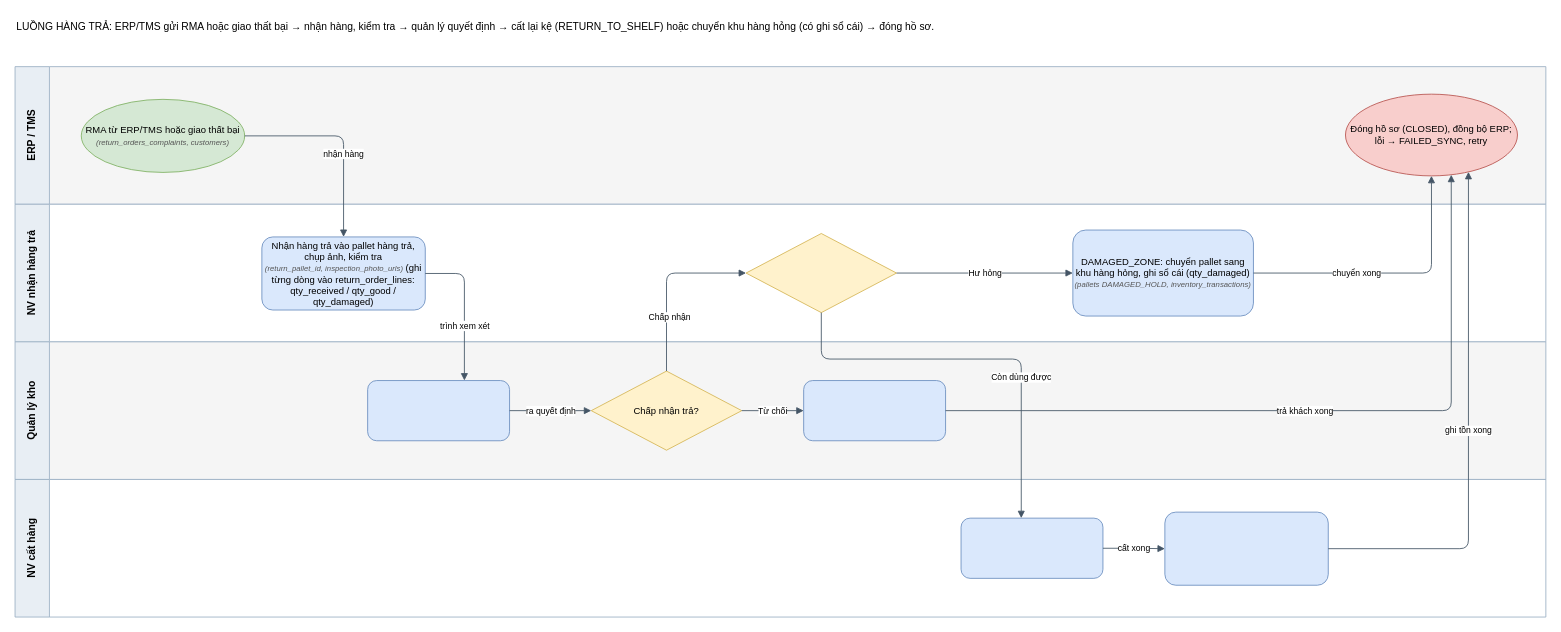
The diagram is 1561 pixels wide and 632 high, and some of its shapes have lost their labels. Here are the shapes that lost their labels. From the top down, the centre of each, then its label:
(821,273): Tình trạng vật lý?
(438,410): Xem xét hồ sơ
(874,410): REJECT: lập GI loại CUSTOMER_RETURN_BACK, trả lại khách
(1031,547): RESTOCK: task RETURN_TO_SHELF, cất lại kệ (tasks)
(1246,548): Ghi sổ cái tồn (RETURN_IN → RETURN_TO_SHELF) (inventory_transactions)
